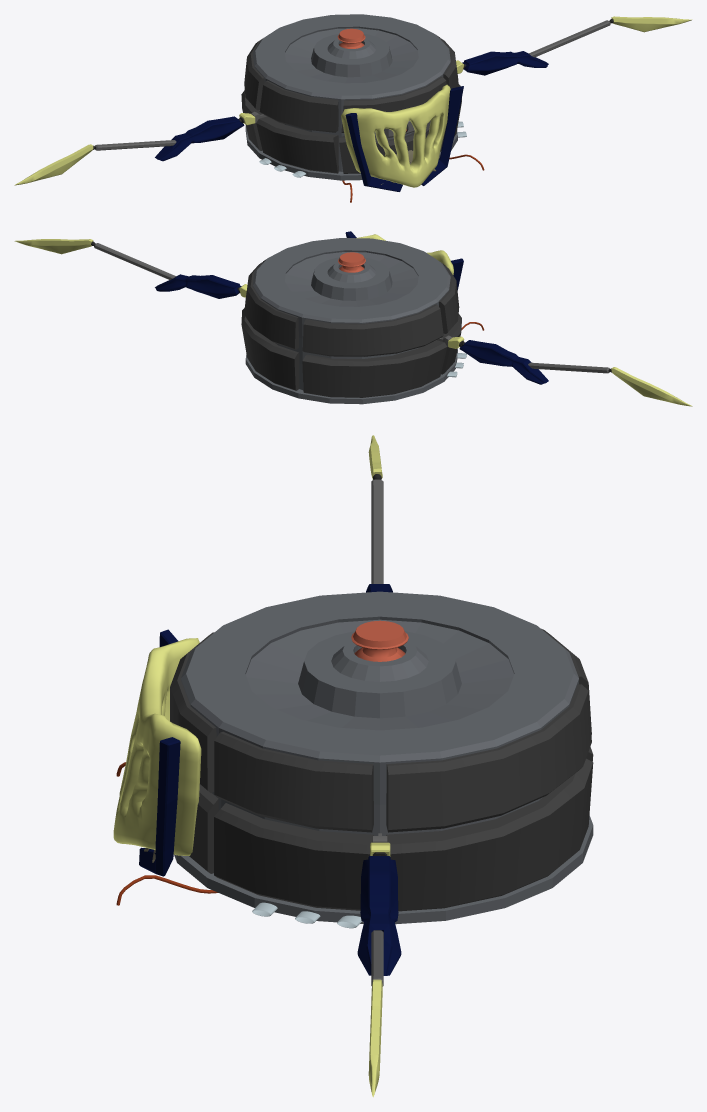
Rendered from FinalRoomba_Lo.fbx.
3 renders of one model, top to bottom at view 1: azimuth 30°, elevation 25°; view 2: azimuth 150°, elevation 25°; view 3: azimuth 270°, elevation 25°, orthographic. The views are drawn at different scales.
Visible parts, largest first — view 1: roombaBody_low, mask_low, bfpRightSep_low, tfpRightSep_low, bicepRight_low, tfpCenterSep_low, bicepLeft_low, guard1_low, guard2_low, bladeRight_low, tbpRightSep_low, bladeLeft_low (+6 smaller); view 2: roombaBody_low, bbpRightSep_low, tbpRightSep_low, bbpLeftSep_low, tbpLeftSep_low, bicepRight_low, bicepLeft_low, bladeRight_low, tfpRightSep_low, bladeLeft_low, forearmLeft_low, forearmRight_low (+3 smaller); view 3: roombaBody_low, bbpLeftSep_low, tbpLeftSep_low, bfpLeftSep_low, tfpLeftSep_low, mask_low, bicepLeft_low, guard1_low, tfpCenterSep_low, whistle_low, bfpCenterSep_low, forearmRight_low (+1 smaller).
Part boxes in pixels (bbox=[...]): roombaBody_low: bbox=[245, 14, 457, 180]; mask_low: bbox=[341, 84, 450, 187]; bfpRightSep_low: bbox=[256, 116, 338, 173]; tfpRightSep_low: bbox=[259, 80, 338, 132]; bicepRight_low: bbox=[155, 116, 244, 161]; tfpCenterSep_low: bbox=[341, 76, 446, 132]; bicepLeft_low: bbox=[462, 51, 548, 75]; guard1_low: bbox=[421, 86, 463, 185]; guard2_low: bbox=[345, 113, 402, 191]; bladeRight_low: bbox=[14, 144, 93, 185]; tbpRightSep_low: bbox=[244, 38, 264, 110]; bladeLeft_low: bbox=[611, 16, 692, 32]; roombaBody_low: bbox=[245, 238, 457, 404]; bbpRightSep_low: bbox=[302, 340, 446, 397]; tbpRightSep_low: bbox=[302, 304, 443, 356]; bbpLeftSep_low: bbox=[241, 307, 299, 390]; tbpLeftSep_low: bbox=[244, 262, 298, 349]; bicepRight_low: bbox=[459, 340, 548, 384]; bicepLeft_low: bbox=[155, 274, 241, 298]; bladeRight_low: bbox=[611, 367, 692, 406]; tfpRightSep_low: bbox=[439, 266, 459, 333]; bladeLeft_low: bbox=[14, 239, 93, 254]; forearmLeft_low: bbox=[94, 243, 175, 279]; forearmRight_low: bbox=[528, 362, 609, 373]; roombaBody_low: bbox=[174, 591, 593, 924]; bbpLeftSep_low: bbox=[386, 758, 593, 911]; tbpLeftSep_low: bbox=[386, 684, 591, 832]; bfpLeftSep_low: bbox=[214, 803, 373, 910]; tfpLeftSep_low: bbox=[214, 731, 373, 832]; mask_low: bbox=[113, 638, 201, 855]; bicepLeft_low: bbox=[357, 856, 401, 975]; guard1_low: bbox=[139, 737, 180, 876]; tfpCenterSep_low: bbox=[170, 632, 216, 793]; whistle_low: bbox=[351, 620, 408, 661]; bfpCenterSep_low: bbox=[189, 784, 218, 873]; forearmRight_low: bbox=[371, 479, 383, 583].
Size of the model in its own units: 16.82 by 2.64 by 5.14.
